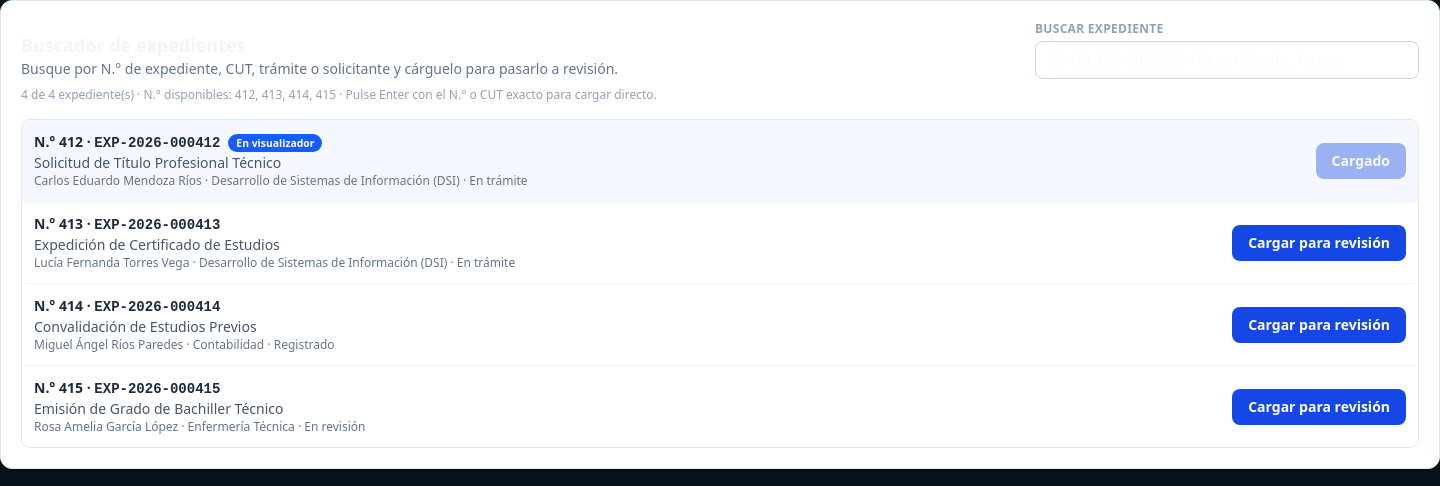
Test: Buscador de expedientes — ENT-M04-01 › muestra estado vacío sin resultados
Step 1. Type "ZZZ-999" into the search field labelled "Buscar expediente" → {"x": 1227, "y": 60}, box [1035, 41, 1419, 79]
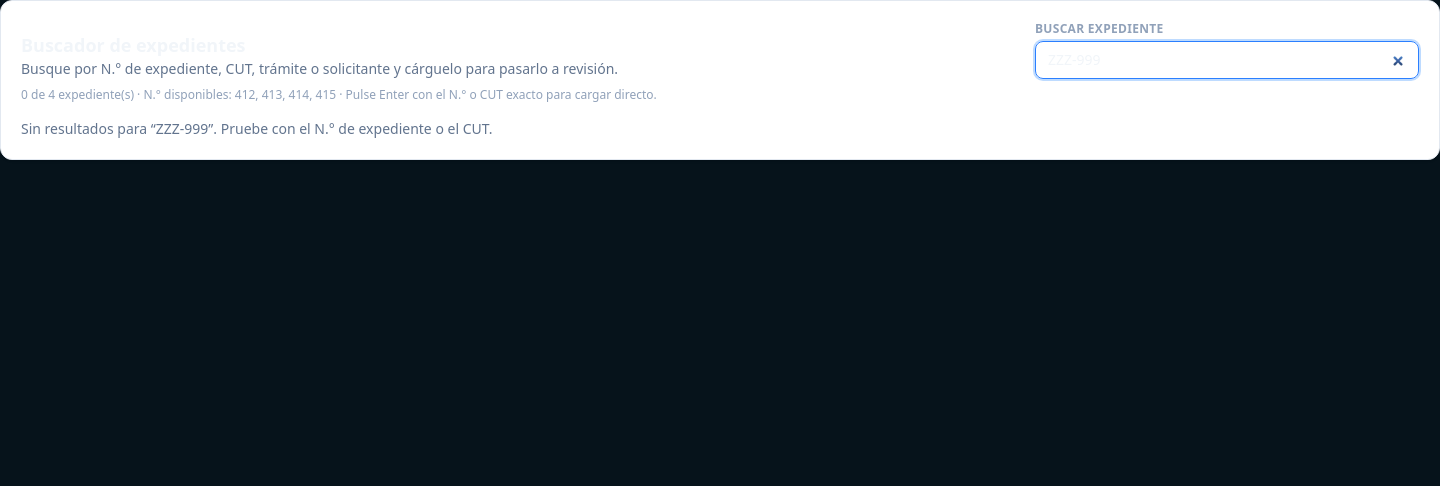
Now the message shows "Sin resultados", box [21, 119, 156, 138]
